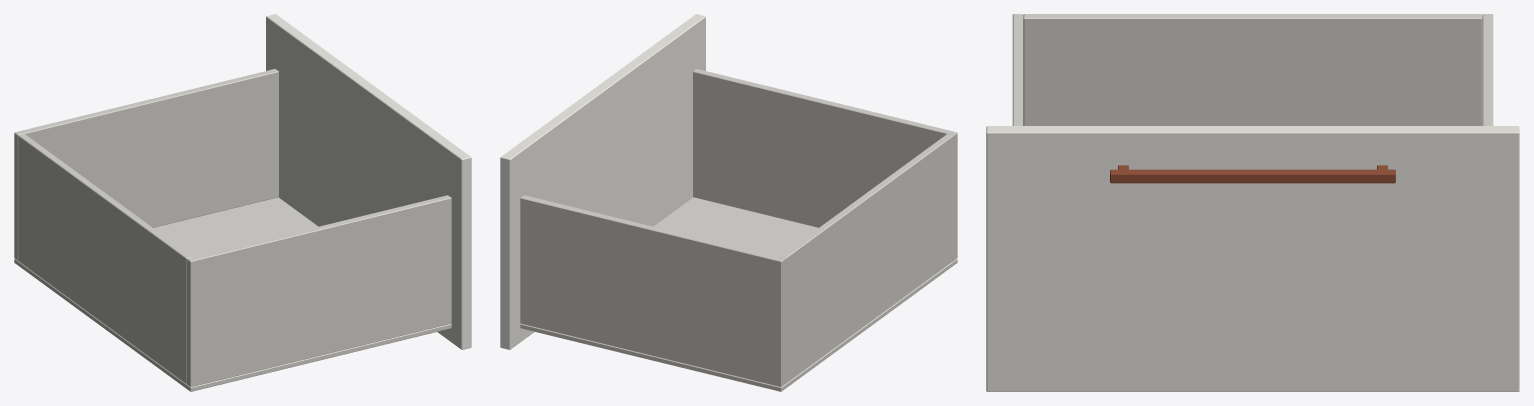
The model's file is l_kitchen_two_long_legs_rb4_bottom_drawer.glb.
The picture shows the model from 3 angles, left to right: view 1: azimuth 30°, elevation 25°; view 2: azimuth 150°, elevation 25°; view 3: azimuth 270°, elevation 25°; orthographic projection. The views are drawn at different scales.
Visible parts, largest first — view 1: l_kitchen_two_long_legs_rb4_bottom_drawer; view 2: l_kitchen_two_long_legs_rb4_bottom_drawer; view 3: l_kitchen_two_long_legs_rb4_bottom_drawer.
Boxes of the visible parts, box(x1,y1,x2,y2) form: l_kitchen_two_long_legs_rb4_bottom_drawer: box(14, 14, 471, 391); l_kitchen_two_long_legs_rb4_bottom_drawer: box(500, 14, 957, 391); l_kitchen_two_long_legs_rb4_bottom_drawer: box(986, 14, 1519, 391).
Size of the model in its own units: 0.504 by 0.321 by 0.597.
